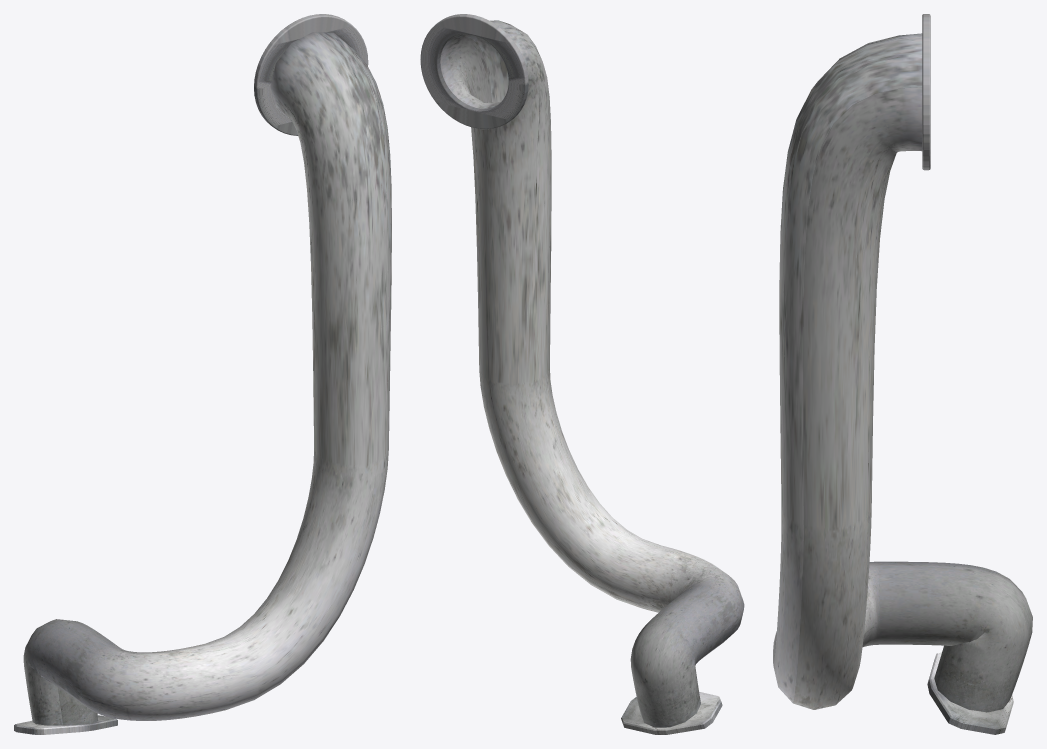
Rendered from turboBig_exhaust_outlet_tube.obj.
The picture shows the model from 3 angles, left to right: view 1: azimuth 30°, elevation 25°; view 2: azimuth 150°, elevation 25°; view 3: azimuth 270°, elevation 25°; orthographic projection. The views are drawn at different scales.
Parts seen in each view (by area): view 1: TurboBig-Exhaust-Outlet___BezierCurve, TurboBig-Exhaust-Outlet-Turbo-Connector_BezierCircle.008, TurboBig-Exhaust-Outlet-Exhaust-Connector_Plane.006; view 2: TurboBig-Exhaust-Outlet___BezierCurve, TurboBig-Exhaust-Outlet-Turbo-Connector_BezierCircle.008, TurboBig-Exhaust-Outlet-Exhaust-Connector_Plane.006; view 3: TurboBig-Exhaust-Outlet___BezierCurve, TurboBig-Exhaust-Outlet-Exhaust-Connector_Plane.006, TurboBig-Exhaust-Outlet-Turbo-Connector_BezierCircle.008.
Part boxes in pixels (x1,y1,x2,y2): TurboBig-Exhaust-Outlet___BezierCurve: [23, 32, 391, 725]; TurboBig-Exhaust-Outlet-Turbo-Connector_BezierCircle.008: [254, 14, 368, 135]; TurboBig-Exhaust-Outlet-Exhaust-Connector_Plane.006: [14, 715, 117, 734]; TurboBig-Exhaust-Outlet___BezierCurve: [440, 20, 744, 727]; TurboBig-Exhaust-Outlet-Turbo-Connector_BezierCircle.008: [420, 14, 528, 129]; TurboBig-Exhaust-Outlet-Exhaust-Connector_Plane.006: [621, 691, 722, 734]; TurboBig-Exhaust-Outlet___BezierCurve: [773, 33, 1032, 712]; TurboBig-Exhaust-Outlet-Exhaust-Connector_Plane.006: [927, 652, 1013, 734]; TurboBig-Exhaust-Outlet-Turbo-Connector_BezierCircle.008: [922, 14, 930, 170].
Bounding box in the file's own units: 0.2822 × 0.5586 × 0.1597.
